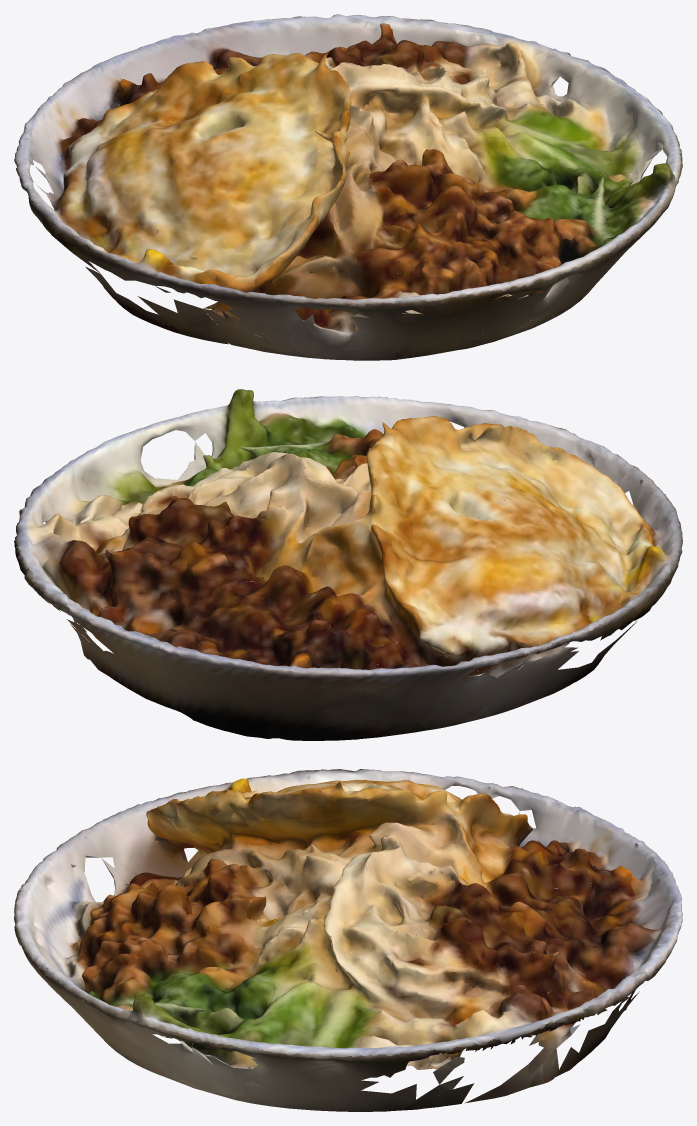
File: pasta-marinera.glb
The picture shows the model from 3 angles, top to bottom: view 1: azimuth 30°, elevation 25°; view 2: azimuth 150°, elevation 25°; view 3: azimuth 270°, elevation 25°; orthographic projection.
Visible parts, largest first — view 1: parte1, parte0; view 2: parte1, parte0; view 3: parte0, parte1.
Boxes of the visible parts, box(x1,y1,x2,y2) form: parte1: box(14, 14, 682, 360); parte0: box(15, 14, 682, 360); parte1: box(17, 396, 682, 740); parte0: box(14, 389, 678, 737); parte0: box(14, 769, 663, 1103); parte1: box(14, 770, 682, 1111).
Size of the model in its own units: 0.2261 by 0.0762 by 0.2246.
1 material, 1 textured.
